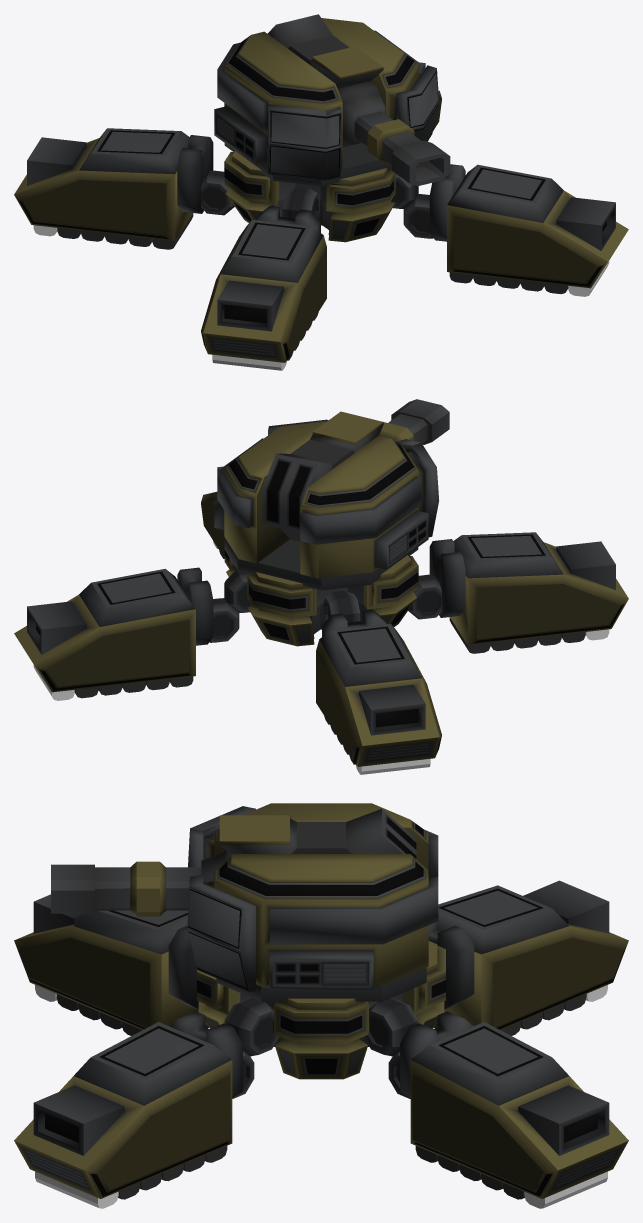
Rendered from SCARAB.fbx.
3 views of the same model, one above another, from view 1: azimuth 30°, elevation 25°; view 2: azimuth 150°, elevation 25°; view 3: azimuth 270°, elevation 25° (orthographic). The views are drawn at different scales.
Parts seen in each view (by area): view 1: Turret, Tread FL, Tread BR, Tread FR, Base, Barrel, Gun Axle, Gun, Leg Pivot 2 BR, Leg Pivot 2 FL, Leg Pivot FR, Track FLM (+3 smaller); view 2: Turret, Tread BL, Tread FR, Tread BR, Base, Gun Axle, Barrel, Leg Pivot 2 FR, Leg Pivot 2 BL, Leg Pivot BR, Leg Pivot BL, Track BLM (+3 smaller); view 3: Turret, Tread FL, Tread BL, Tread BR, Tread FR, Base, Gun Axle, Barrel, Leg Pivot FL, Leg Pivot BL, Track FLM, Track BLM (+4 smaller).
Part boxes in pixels (x1=…): Turret: x1=214, y1=18, x2=439, y2=180; Tread FL: x1=429, y1=164, x2=628, y2=288; Tread BR: x1=14, y1=128, x2=213, y2=241; Tread FR: x1=201, y1=206, x2=326, y2=362; Base: x1=224, y1=143, x2=395, y2=242; Barrel: x1=354, y1=111, x2=450, y2=186; Gun Axle: x1=267, y1=14, x2=383, y2=88; Gun: x1=337, y1=81, x2=385, y2=147; Leg Pivot 2 BR: x1=201, y1=170, x2=234, y2=215; Leg Pivot 2 FL: x1=403, y1=194, x2=432, y2=238; Leg Pivot FR: x1=282, y1=186, x2=319, y2=218; Track FLM: x1=473, y1=275, x2=568, y2=293; Turret: x1=214, y1=419, x2=439, y2=578; Tread BL: x1=14, y1=567, x2=213, y2=692; Tread FR: x1=429, y1=532, x2=628, y2=645; Tread BR: x1=316, y1=610, x2=441, y2=766; Base: x1=224, y1=537, x2=418, y2=646; Gun Axle: x1=262, y1=411, x2=383, y2=541; Barrel: x1=379, y1=399, x2=449, y2=444; Leg Pivot 2 FR: x1=408, y1=574, x2=441, y2=619; Leg Pivot 2 BL: x1=209, y1=598, x2=239, y2=642; Leg Pivot BR: x1=323, y1=590, x2=360, y2=622; Leg Pivot BL: x1=224, y1=570, x2=252, y2=612; Track BLM: x1=74, y1=679, x2=169, y2=698; Turret: x1=187, y1=803, x2=438, y2=992; Tread FL: x1=14, y1=1011, x2=242, y2=1198; Tread BL: x1=400, y1=1011, x2=628, y2=1198; Tread BR: x1=428, y1=880, x2=628, y2=1029; Tread FR: x1=14, y1=894, x2=198, y2=1029; Base: x1=197, y1=941, x2=445, y2=1079; Gun Axle: x1=219, y1=808, x2=416, y2=858; Barrel: x1=51, y1=861, x2=201, y2=916; Leg Pivot FL: x1=224, y1=998, x2=278, y2=1056; Leg Pivot BL: x1=364, y1=998, x2=418, y2=1056; Track FLM: x1=118, y1=1155, x2=205, y2=1199; Track BLM: x1=437, y1=1155, x2=524, y2=1199.
Bounding box in the file's own units: 335 × 161 × 335.
